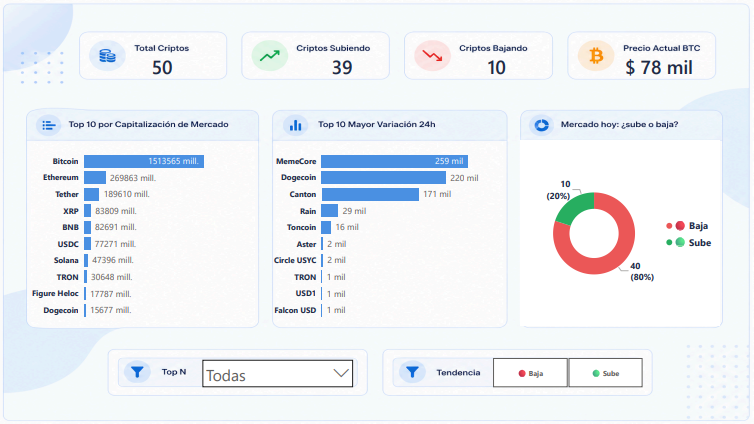

This screenshot's page, from the dashboard's own definition file:
{"tool":"powerbi","page":{"name":"Resumen General","canvas":[1280,720],"ordinal":0},"visuals":[{"type":"cardVisual","fields":{"Data":["top50_criptos.Total Cryptos"]},"box":[230,76.7,105,68.3],"z":0},{"type":"cardVisual","fields":{"Data":["top50_criptos.Cryptos Subiendo"]},"box":[535,76.7,105,68.3],"z":1000},{"type":"cardVisual","fields":{"Data":["top50_criptos.Cryptos Bajando"]},"box":[800,76.7,105,68.3],"z":2000},{"type":"cardVisual","fields":{"Data":["historial_bitcoin.Precio Actual BTC"]},"box":[1033.3,76.7,175,68.3],"z":3000},{"type":"barChart","fields":{"Category":["top50_criptos.nombre"],"Y":["Sum(top50_criptos.capitalizacion_mercado)"]},"box":[50,238.3,388.3,315],"z":4000},{"type":"barChart","fields":{"Category":["top50_criptos.nombre"],"Y":["Sum(top50_criptos.variacion_24h_pct)"]},"box":[460,238.3,393.3,315],"z":5000},{"type":"donutChart","fields":{"Category":["top50_criptos.tendencia"],"Y":["top50_criptos.Total Cryptos"]},"box":[883.3,238.3,338.3,315],"z":6000},{"type":"slicer","fields":{"Values":["top50_criptos.tendencia"]},"box":[811.7,600,303.3,63.3],"z":7000},{"type":"slicer","fields":{"Values":["top50_criptos.rango"]},"box":[335,599.5,274.8,63.2],"z":8000}]}

Visuals, with their boxes in screenshot pixels (x1, y1, x2, y2), scaled from the page's 1280x720 canvas onto the 754x424 screenshot:
cardVisual - top50_criptos.Total Cryptos: [left=135, top=45, right=197, bottom=85]
cardVisual - top50_criptos.Cryptos Subiendo: [left=315, top=45, right=377, bottom=85]
cardVisual - top50_criptos.Cryptos Bajando: [left=471, top=45, right=533, bottom=85]
cardVisual - historial_bitcoin.Precio Actual BTC: [left=609, top=45, right=712, bottom=85]
barChart - top50_criptos.nombre x Sum(top50_criptos.capitalizacion_mercado): [left=29, top=140, right=258, bottom=326]
barChart - top50_criptos.nombre x Sum(top50_criptos.variacion_24h_pct): [left=271, top=140, right=503, bottom=326]
donutChart - top50_criptos.tendencia x top50_criptos.Total Cryptos: [left=520, top=140, right=720, bottom=326]
slicer - top50_criptos.tendencia: [left=478, top=353, right=657, bottom=391]
slicer - top50_criptos.rango: [left=197, top=353, right=359, bottom=390]
